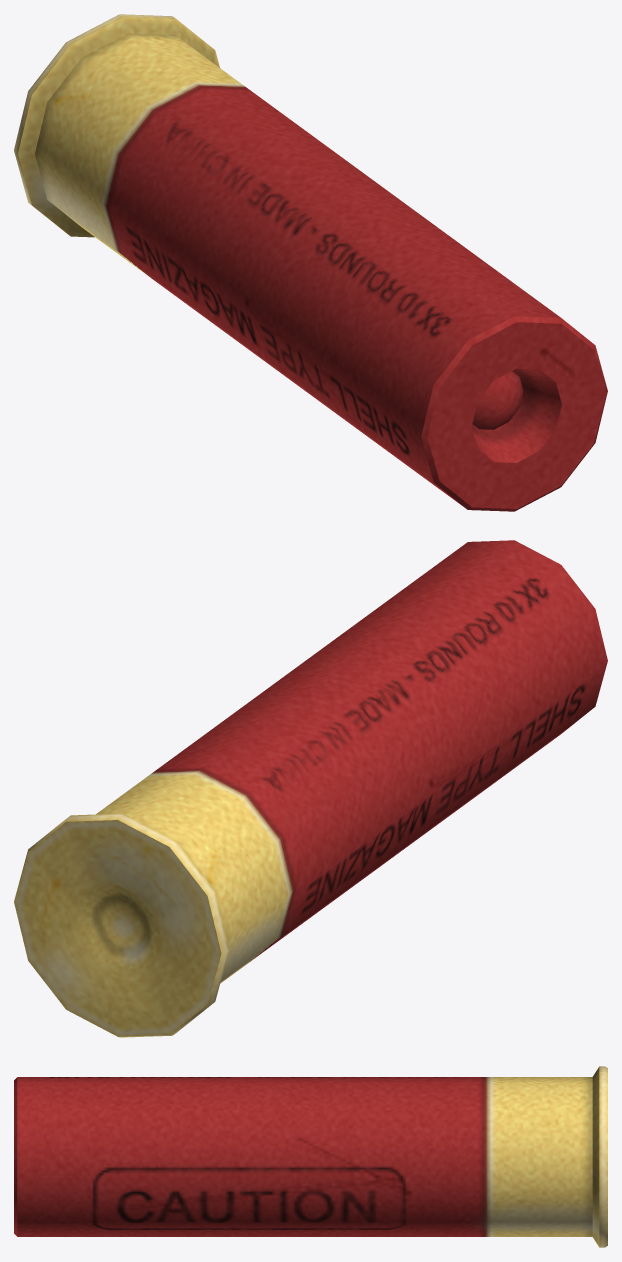
File: CombatSG_shell.fbx
3 renders of one model, top to bottom at view 1: azimuth 30°, elevation 25°; view 2: azimuth 150°, elevation 25°; view 3: azimuth 270°, elevation 25°, orthographic. The views are drawn at different scales.
Parts seen in each view (by area): view 1: shell; view 2: shell; view 3: shell.
Part boxes in pixels (bbox=[...]): shell: bbox=[14, 14, 607, 511]; shell: bbox=[14, 540, 607, 1037]; shell: bbox=[14, 1066, 607, 1247].
Bounding box in the file's own units: 1.13 × 3.71 × 1.13.
